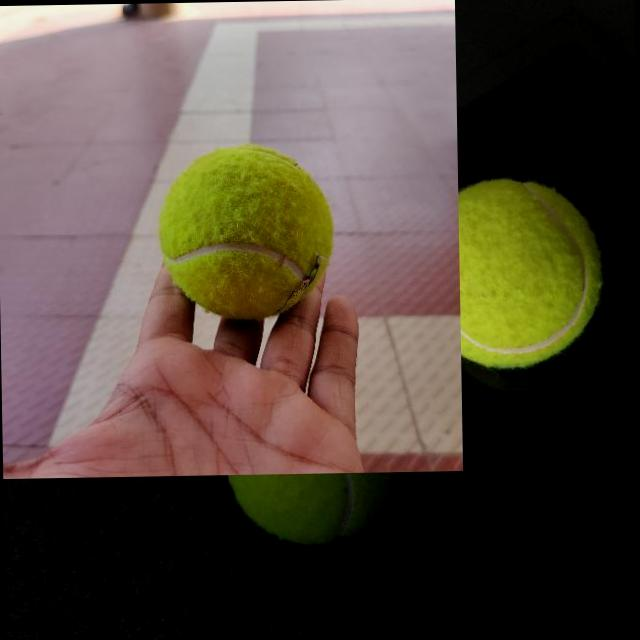Tennis Ball: (155, 143, 334, 322), (458, 176, 604, 370), (223, 472, 409, 546)
